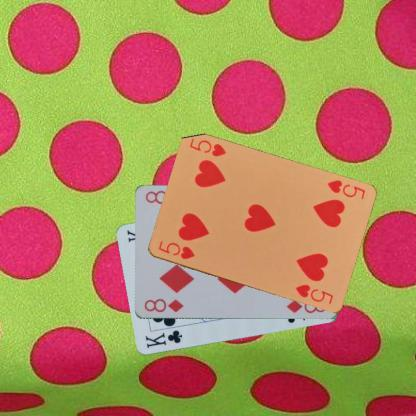5h: (324, 177, 366, 201), (155, 238, 196, 261)
8d: (141, 296, 184, 314)
Kc: (142, 328, 184, 350)
